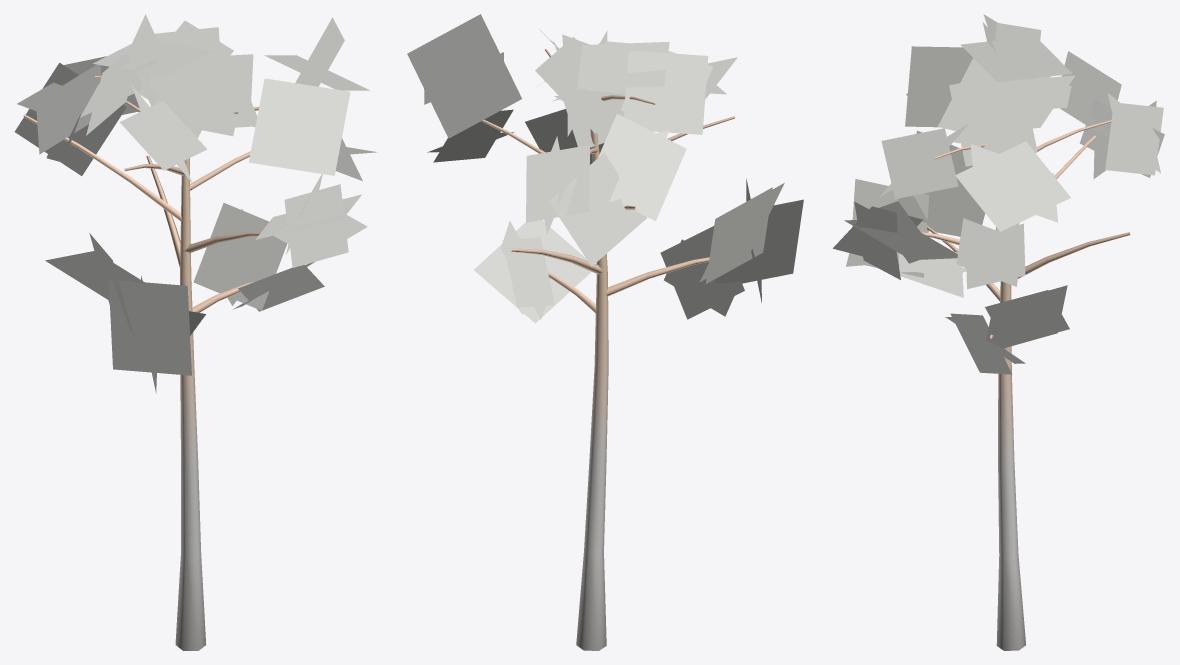
Rendered from pine_l1.glb.
3 renders of one model, left to right at view 1: azimuth 30°, elevation 25°; view 2: azimuth 150°, elevation 25°; view 3: azimuth 270°, elevation 25°, orthographic. The views are drawn at different scales.
Visible parts, largest first — view 1: leaf, wood; view 2: leaf, wood; view 3: leaf, wood.
Boxes of the visible parts, x1,y1,x2,y2 form: leaf: (14,14,377,393); wood: (23,76,260,650); leaf: (407,14,803,323); wood: (481,49,734,650); leaf: (833,14,1164,374); wood: (921,120,1130,650).
Size of the model in its own units: 10.46 by 19.16 by 9.61.
